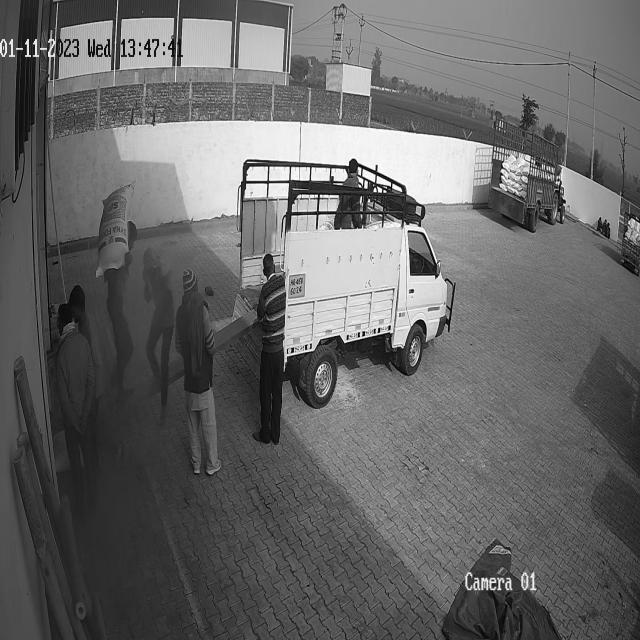sack: (95, 182, 134, 276)
